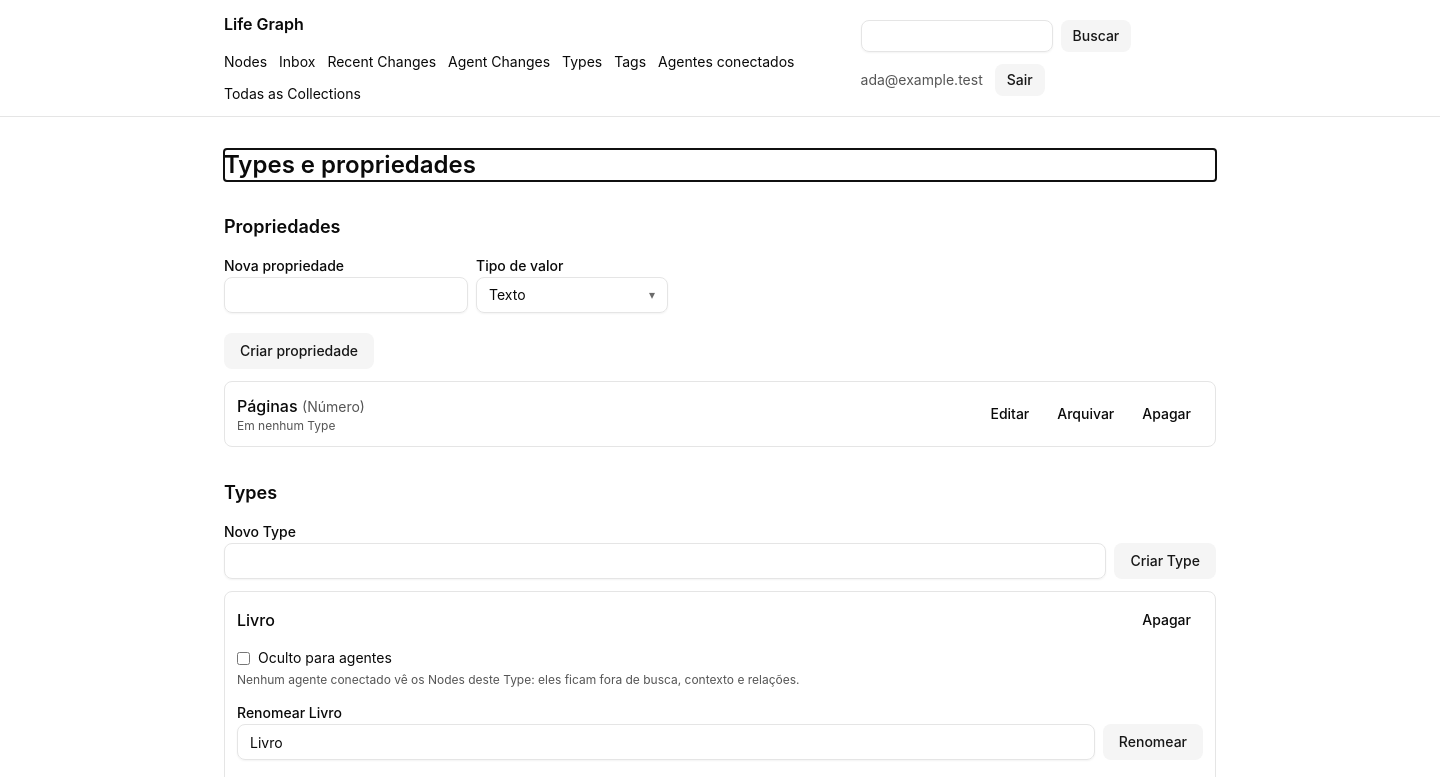
Test: types and properties › offers only the safe value kinds while Nodes hold values, and says so
Click the button with aria-label "Editar Páginas" at (1010, 414), box [978,398,1041,430]
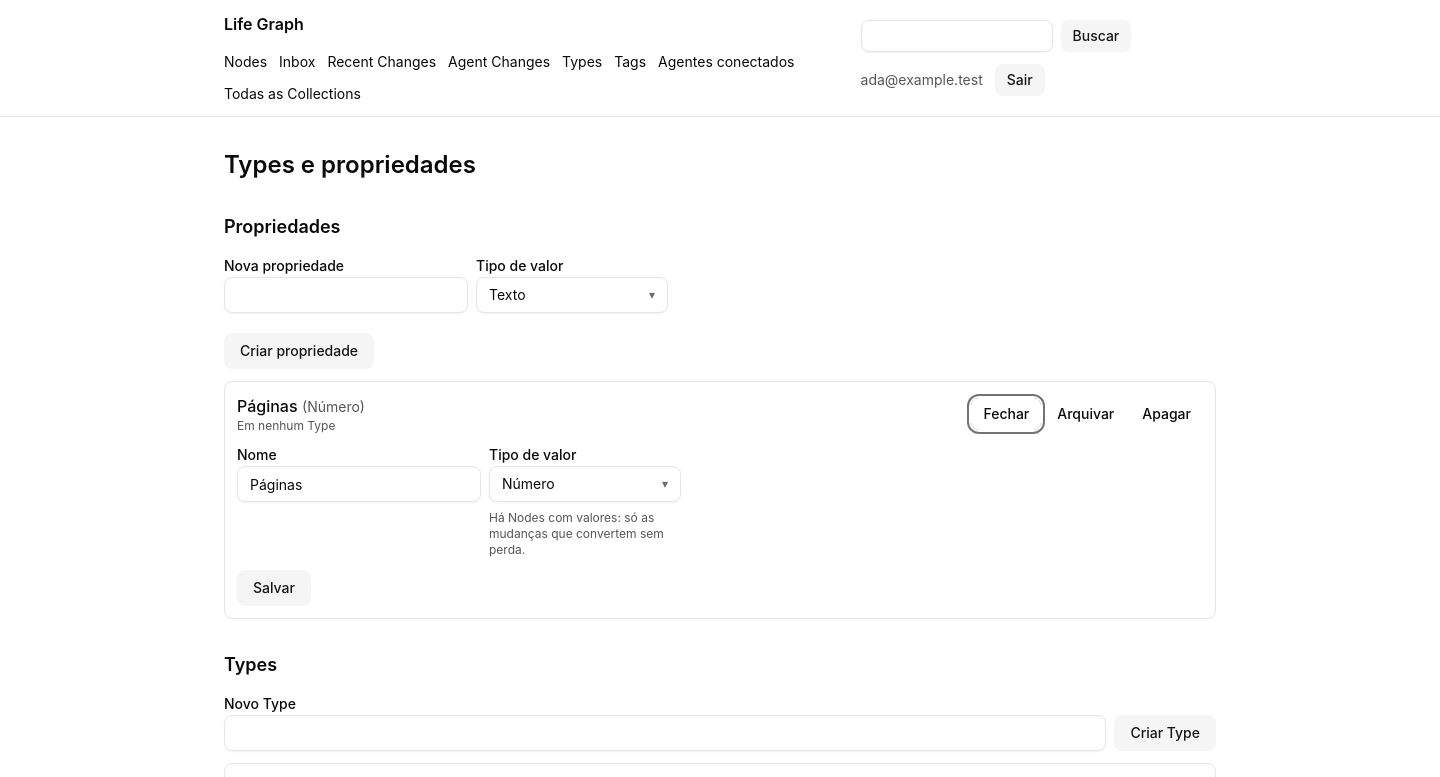
Expected: the text "Há Nodes com valores: só as mudanças que convertem sem perda." is shown, [489,510,681,558]
Click the dropdown named "Tipo de valor" at (585, 484), box [489,466,681,502]
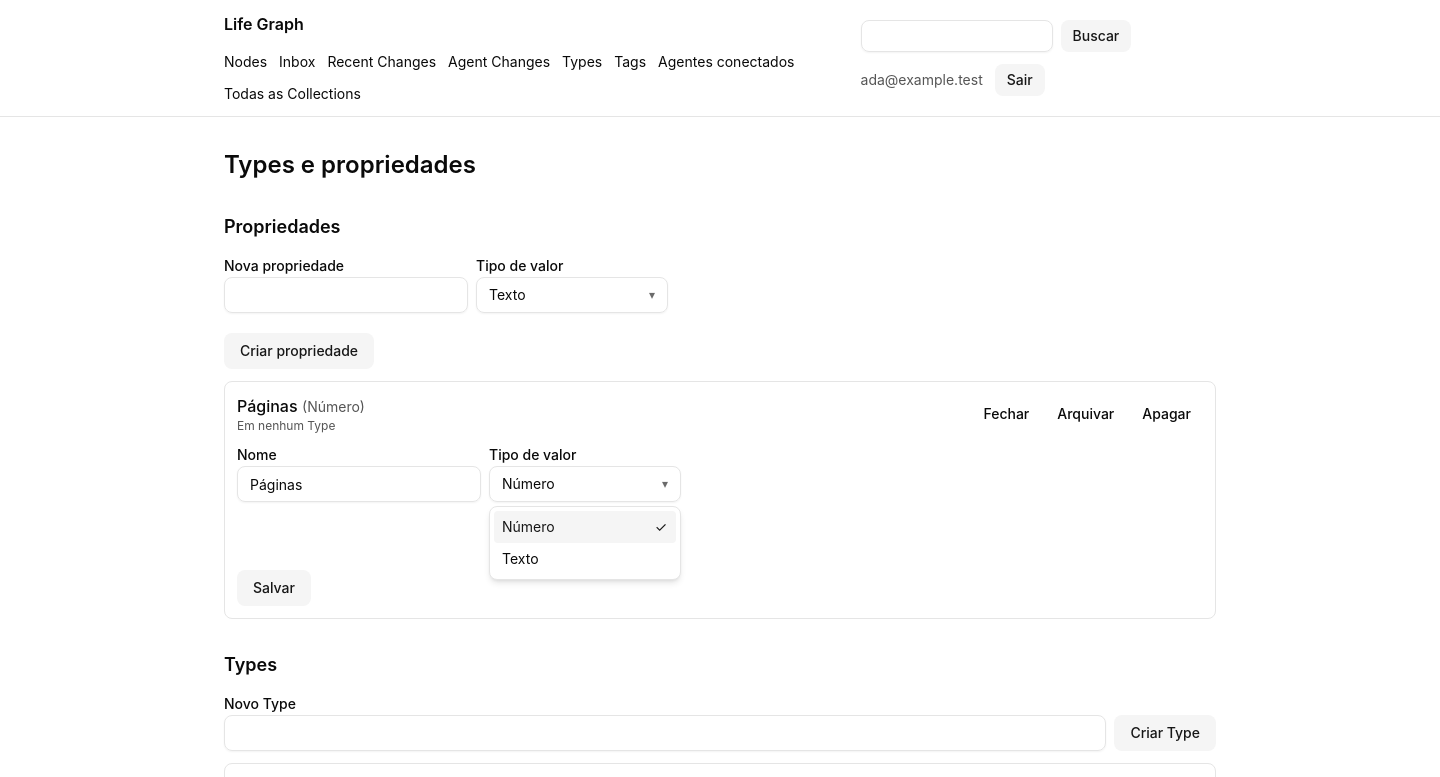
Expected: the number of options is 2, [494,511,676,543]; [502,550,538,567]
Expected: the option "✓ Número" is shown, [494,511,676,543]
Expected: the option "Texto" is shown, [502,550,538,567]
